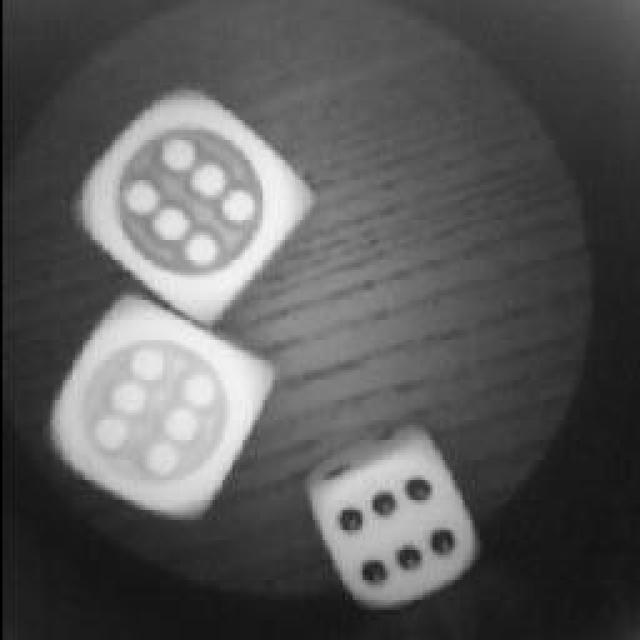dice_6: (70, 90, 312, 315), (38, 300, 270, 518), (305, 442, 477, 612)
